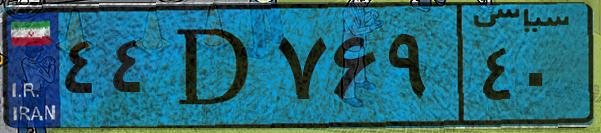0: (525, 38, 570, 115)
4: (57, 26, 110, 100), (475, 38, 525, 113), (110, 28, 158, 98)
6: (330, 28, 385, 110)
7: (270, 28, 330, 110)
9: (385, 28, 445, 110)
D: (158, 12, 270, 120)
